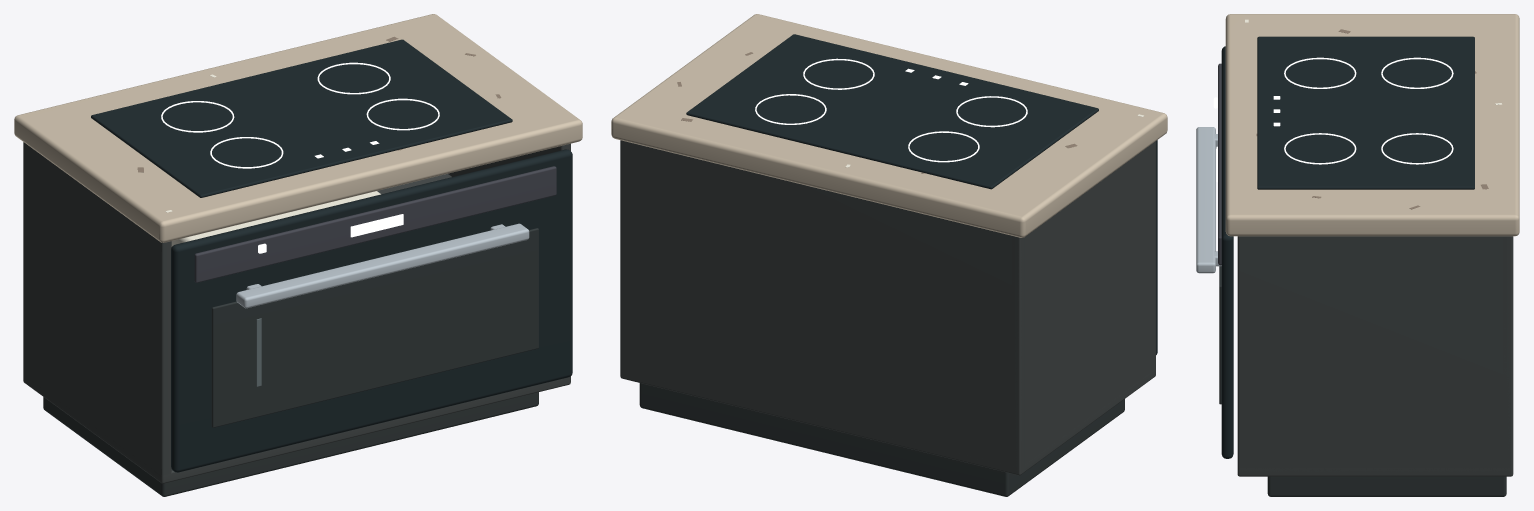
The model's file is kitchenModernInductionCharcoal.glb.
The picture shows the model from 3 angles, left to right: view 1: azimuth 30°, elevation 25°; view 2: azimuth 150°, elevation 25°; view 3: azimuth 270°, elevation 25°; orthographic projection. The views are drawn at different scales.
Parts seen in each view (by area): view 1: Oven black glass face, Thick stone worktop, Oven window, Storage inner side, Induction glass plate, Oven control strip, Recessed kitchen plinth, Slim oven handle, Storage inner floor, Stored folded linen, Storage inner side.001, Oven clock display; view 2: Storage inner back, Thick stone worktop, Induction glass plate, Storage inner side, Recessed kitchen plinth, Storage inner floor; view 3: Storage inner side.001, Induction glass plate, Thick stone worktop, Recessed kitchen plinth, Oven black glass face, Slim oven handle, Storage inner back, Storage inner floor, Oven control strip, Oven window.
Part boxes in pixels (x1,y1,x2,y2): Oven black glass face: (171,149,572,472); Thick stone worktop: (14,14,582,242); Oven window: (211,228,538,427); Storage inner side: (23,142,171,483); Induction glass plate: (91,39,512,197); Oven control strip: (194,166,556,282); Recessed kitchen plinth: (43,392,538,496); Slim oven handle: (236,223,529,308); Storage inner floor: (23,375,570,483); Stored folded linen: (171,191,380,246); Storage inner side.001: (448,143,570,385); Oven clock display: (350,214,403,237); Storage inner back: (620,140,1024,475); Thick stone worktop: (611,14,1167,237); Induction glass plate: (686,34,1098,189); Storage inner side: (1012,141,1155,475); Recessed kitchen plinth: (639,383,1124,496); Storage inner floor: (883,369,1155,471); Storage inner side.001: (1237,236,1513,476); Induction glass plate: (1257,36,1474,189); Thick stone worktop: (1225,14,1519,236); Recessed kitchen plinth: (1267,476,1506,496); Oven black glass face: (1221,46,1233,458); Slim oven handle: (1196,127,1215,273); Storage inner back: (1503,236,1513,475); Storage inner floor: (1238,468,1511,475); Oven control strip: (1218,63,1221,265); Oven window: (1219,266,1221,404).
Size of the model in its own units: 1.84 by 1.25 by 1.23.
